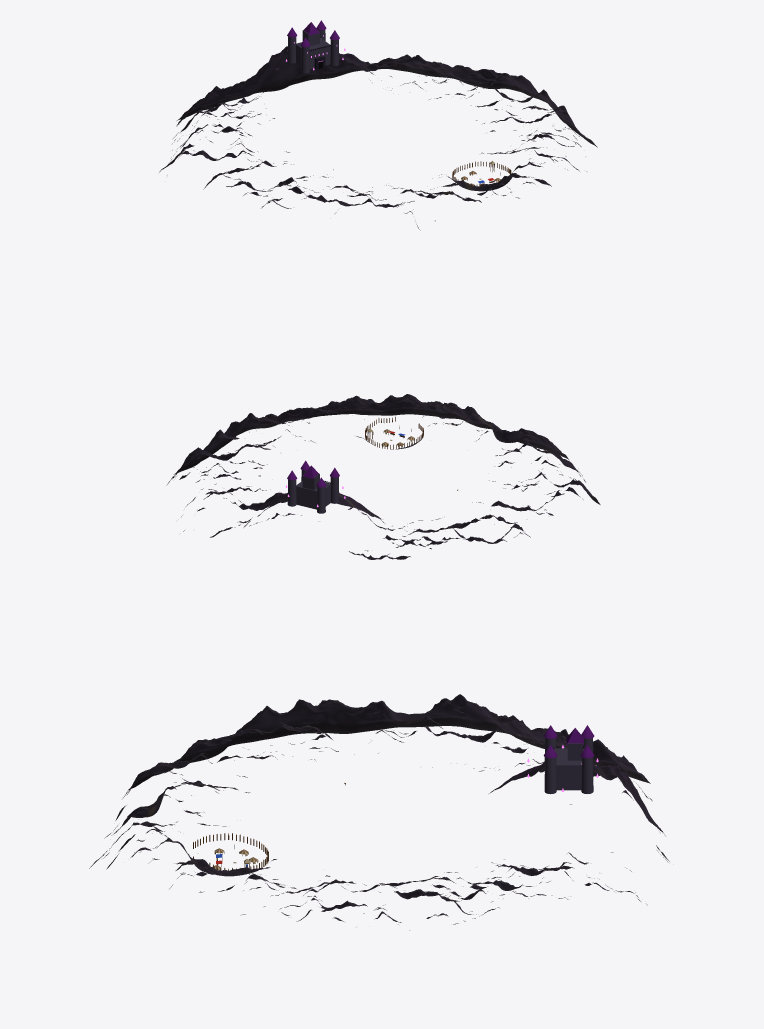
Rendered from island_dark.glb.
The picture shows the model from 3 angles, top to bottom: view 1: azimuth 30°, elevation 25°; view 2: azimuth 150°, elevation 25°; view 3: azimuth 270°, elevation 25°; orthographic projection. The views are drawn at different scales.
Visible parts, largest first — view 1: Terrain_dark, dark_ChaosCastle; view 2: Terrain_dark, dark_ChaosCastle; view 3: Terrain_dark, dark_ChaosCastle.
Boxes of the visible parts, box(x1,y1,x2,y2) form: Terrain_dark: box(159, 46, 597, 230); dark_ChaosCastle: box(287, 20, 339, 73); Terrain_dark: box(166, 394, 600, 559); dark_ChaosCastle: box(287, 460, 339, 513); Terrain_dark: box(89, 694, 669, 930); dark_ChaosCastle: box(543, 725, 594, 794).
Size of the model in its own units: 480 by 94.77 by 480.
